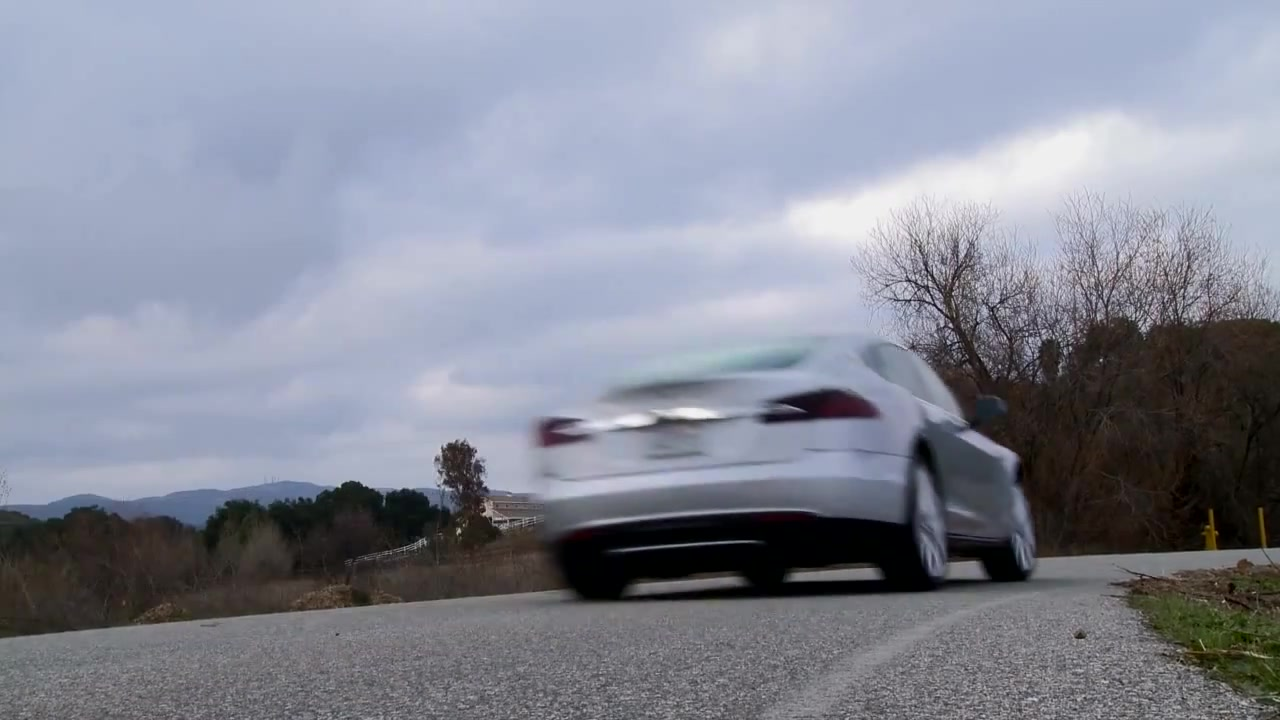car: (532, 335, 1042, 600)
